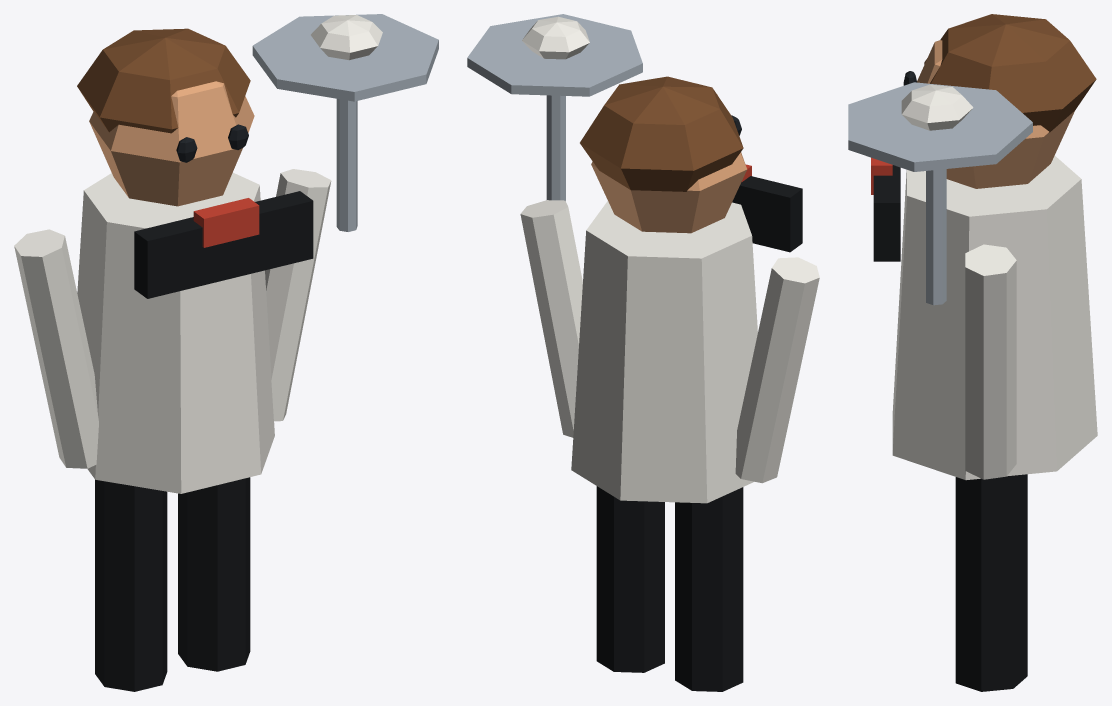
File: waiter-lod1.glb
3 views of the same model, side by side, from view 1: azimuth 30°, elevation 25°; view 2: azimuth 150°, elevation 25°; view 3: azimuth 270°, elevation 25° (orthographic). The views are drawn at different scales.
Visible parts, largest first — view 1: waiter; view 2: waiter; view 3: waiter.
Part boxes in pixels (box(x1,y1,x2,y2)): waiter: box(14, 14, 438, 691); waiter: box(467, 14, 819, 691); waiter: box(848, 14, 1097, 691).
Size of the model in its own units: 0.8323 by 1.3 by 0.4622.
